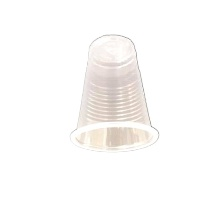glass: (63, 31, 163, 157)
